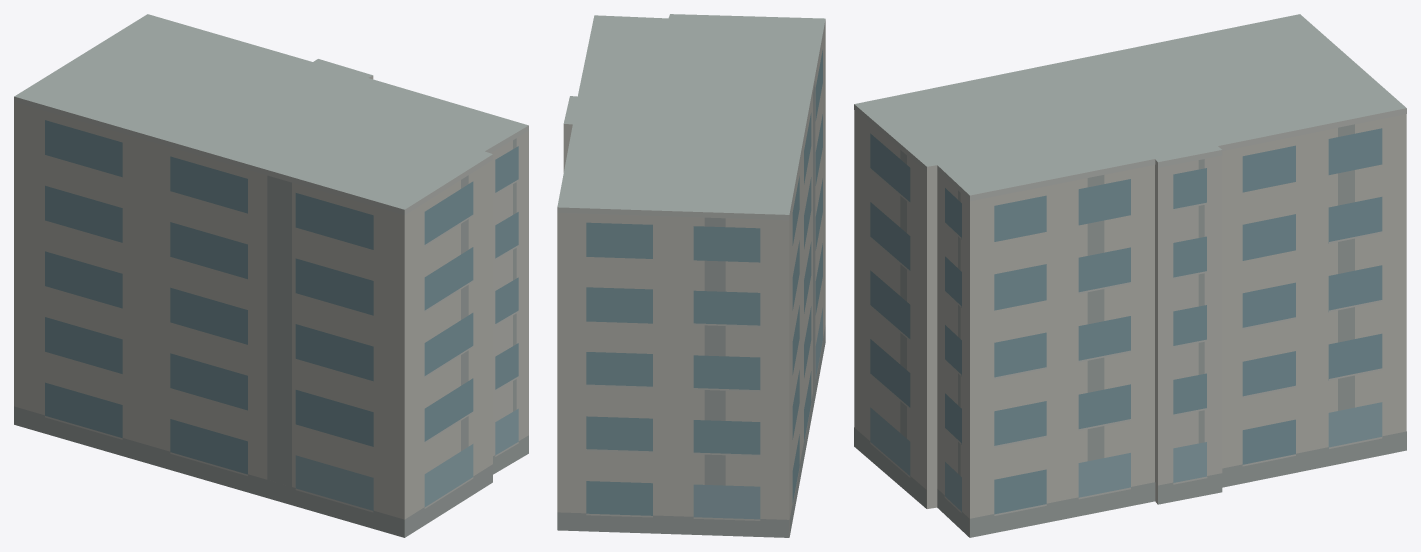
File: survey-upis-32929868.glb
3 renders of one model, left to right at view 1: azimuth 30°, elevation 25°; view 2: azimuth 150°, elevation 25°; view 3: azimuth 270°, elevation 25°, orthographic. The views are drawn at different scales.
Parts seen in each view (by area): view 1: survey-upis-32929868.tmp; view 2: survey-upis-32929868.tmp; view 3: survey-upis-32929868.tmp.
Boxes of the visible parts, x1,y1,x2,y2 form: survey-upis-32929868.tmp: [14, 14, 528, 537]; survey-upis-32929868.tmp: [557, 14, 825, 537]; survey-upis-32929868.tmp: [854, 14, 1406, 537].
Bounding box in the file's own units: 16.5 × 14.5 × 21.22.
